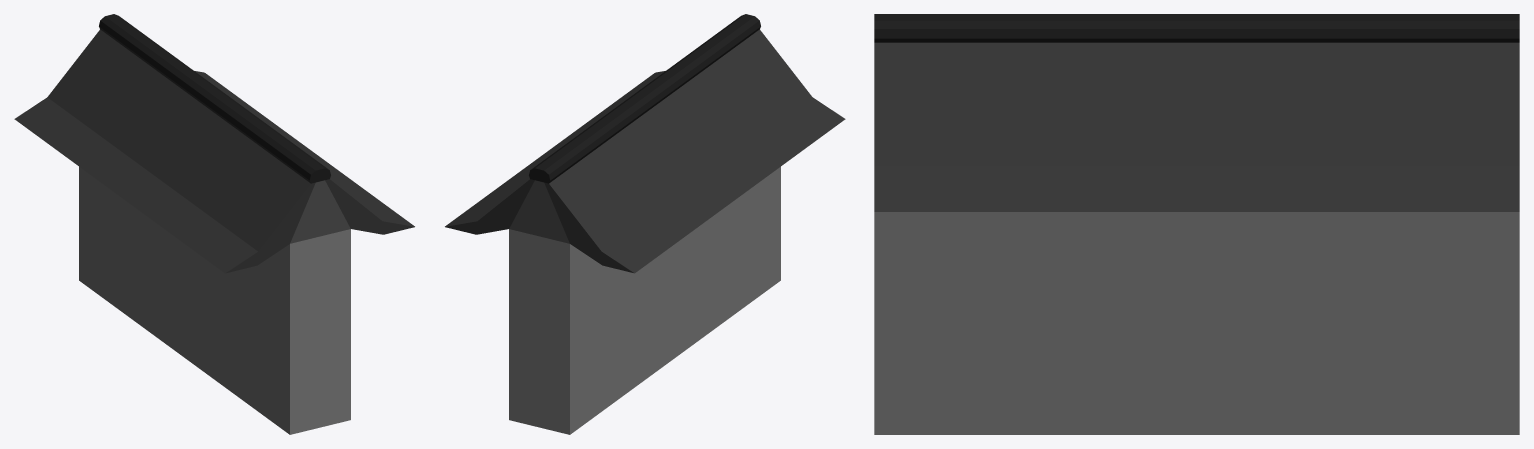
File: TraditionalWall.glb
3 views of the same model, side by side, from view 1: azimuth 30°, elevation 25°; view 2: azimuth 150°, elevation 25°; view 3: azimuth 270°, elevation 25° (orthographic). The views are drawn at different scales.
Parts seen in each view (by area): view 1: BuildingA_Wall_Straight; view 2: BuildingA_Wall_Straight; view 3: BuildingA_Wall_Straight.
Boxes of the visible parts, <box> form: BuildingA_Wall_Straight: <box>14,14,414,434</box>; BuildingA_Wall_Straight: <box>445,14,845,434</box>; BuildingA_Wall_Straight: <box>874,14,1519,434</box>.
Size of the model in its own units: 2.5 by 3.24 by 4.8.
1 material, 1 textured.
